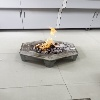fire: (35, 26, 59, 52)
